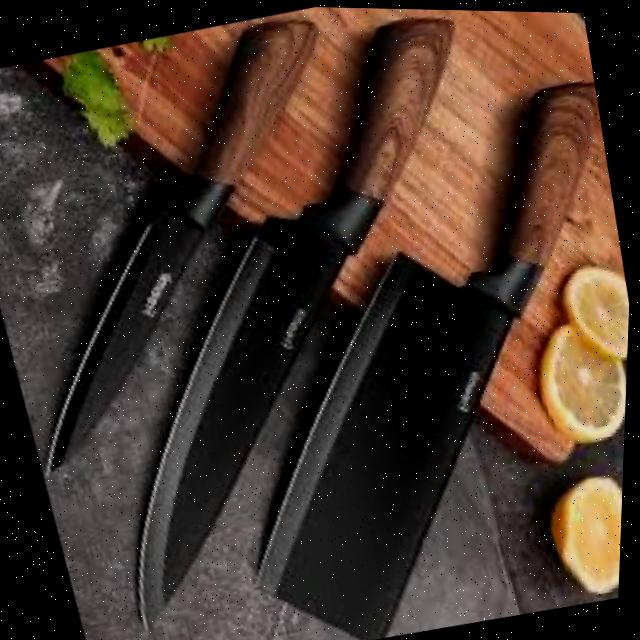knife: (36, 1, 558, 640), (167, 65, 638, 640), (0, 8, 398, 485)
